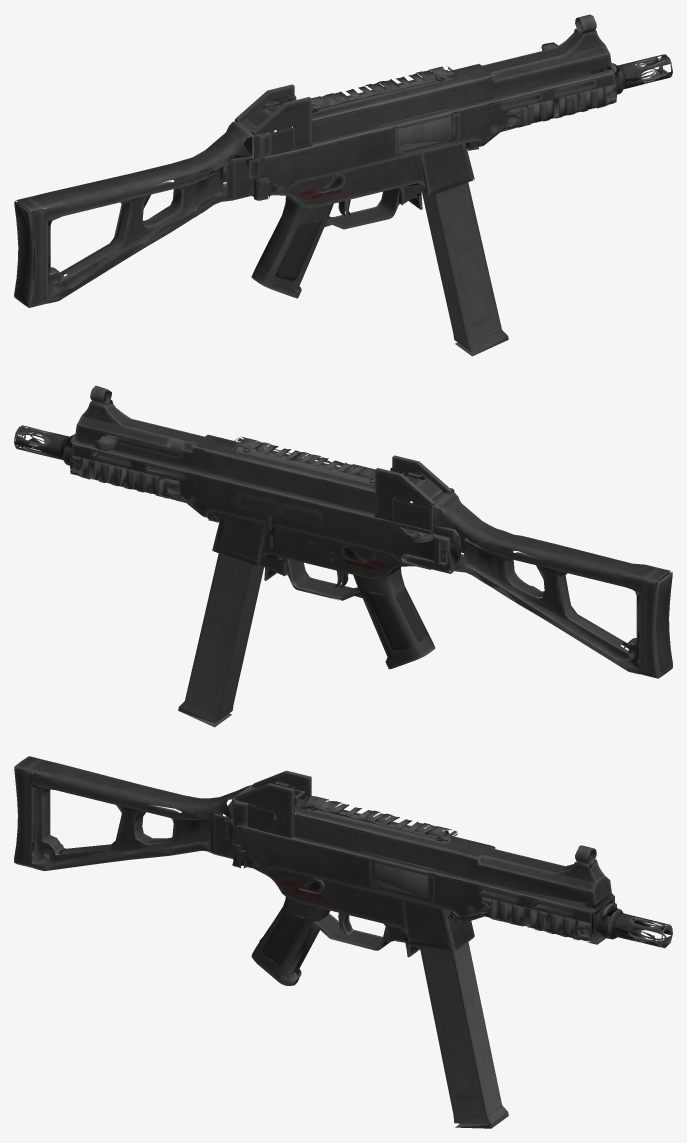
File: g_ump_lo.glb
3 views of the same model, one above another, from view 1: azimuth 30°, elevation 25°; view 2: azimuth 150°, elevation 25°; view 3: azimuth 330°, elevation 25° (orthographic).
Parts seen in each view (by area): view 1: merged; view 2: merged; view 3: merged.
Part boxes in pixels (x1=…): merged: x1=14, y1=14, x2=672, y2=356; merged: x1=14, y1=385, x2=672, y2=727; merged: x1=14, y1=756, x2=672, y2=1128.
Size of the model in its own units: 477 by 214 by 45.28.
2 materials, 2 textured.
